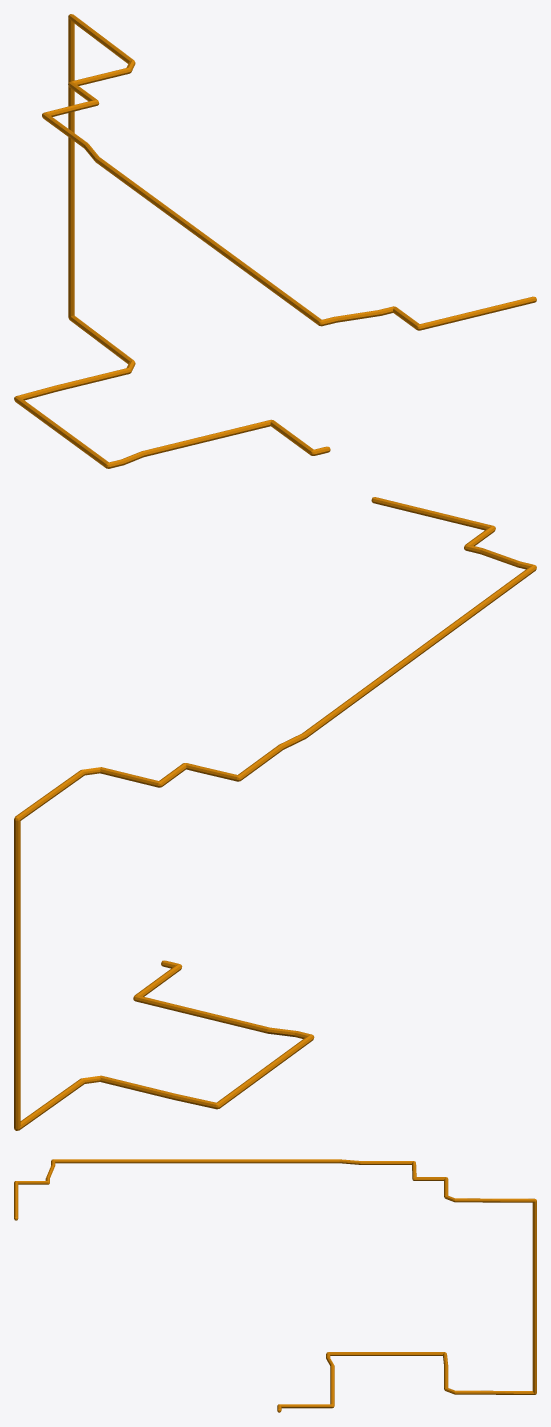
The picture shows the model from 3 angles, top to bottom: view 1: azimuth 30°, elevation 25°; view 2: azimuth 150°, elevation 25°; view 3: azimuth 270°, elevation 25°; orthographic projection. The views are drawn at different scales.
Size of the model in its own units: 660 by 1020 by 2465.
